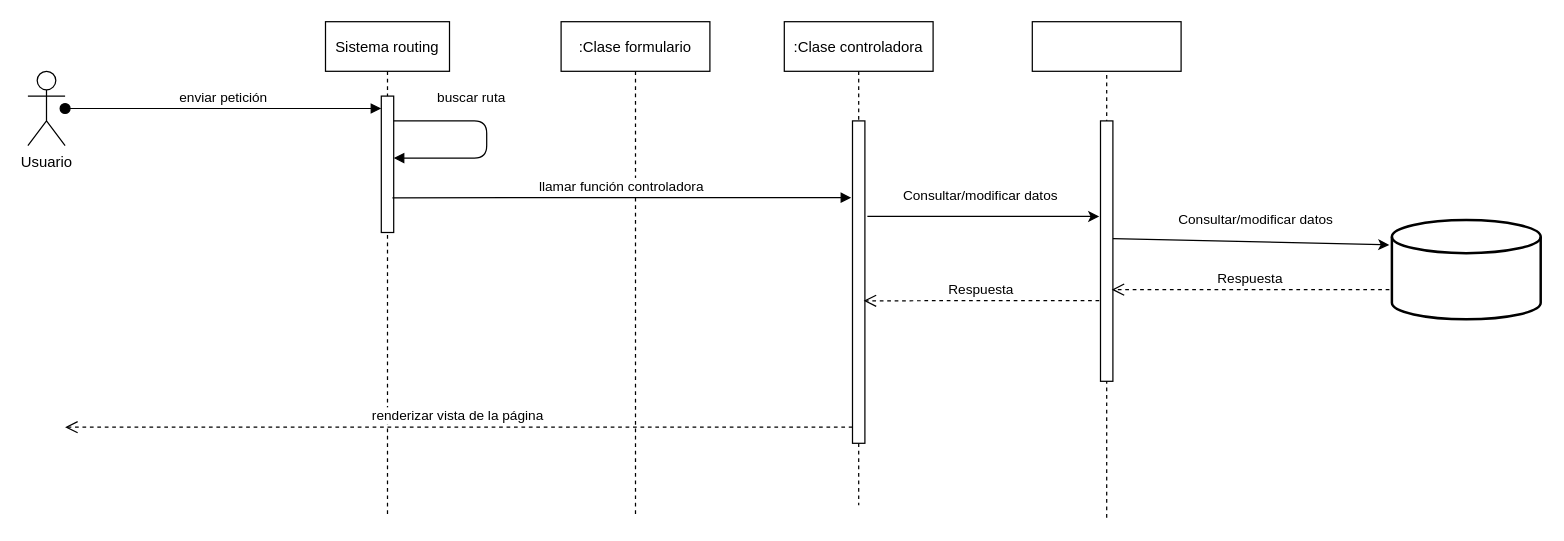
Image size: 1564x541. Some labels were removed from this diagram. Each missing label, with the box of its shape:
:Clase modelo: (1031, 20, 1181, 71)
Base de datos: (1390, 218, 1541, 320)
